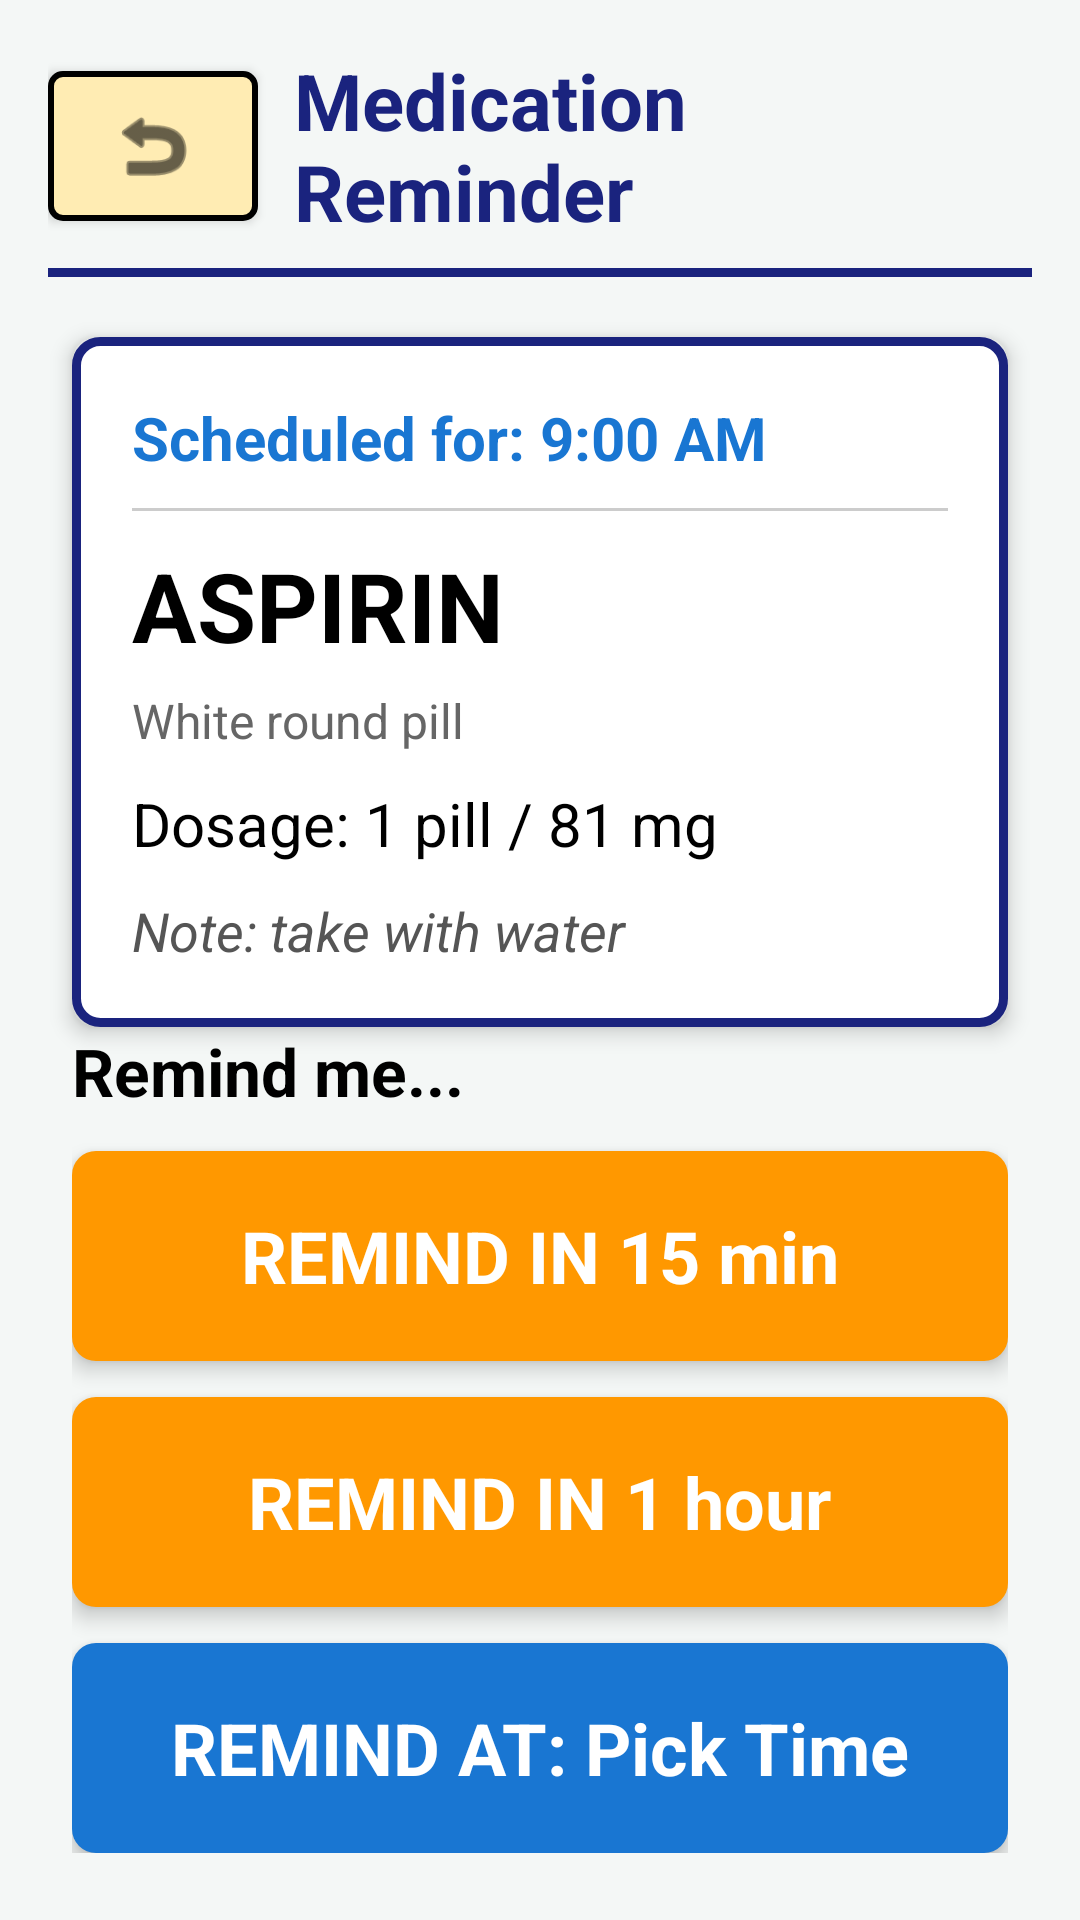

Where to tap for icons on this 1080 × 1920 app screen, as (x,y):
revert: (154,146)
